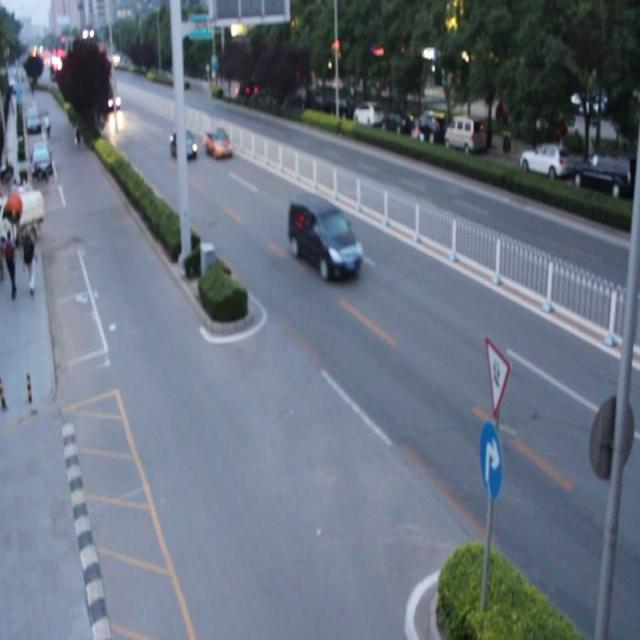car: (170, 128, 196, 158), (206, 127, 232, 157)
truck: (288, 196, 362, 278)
